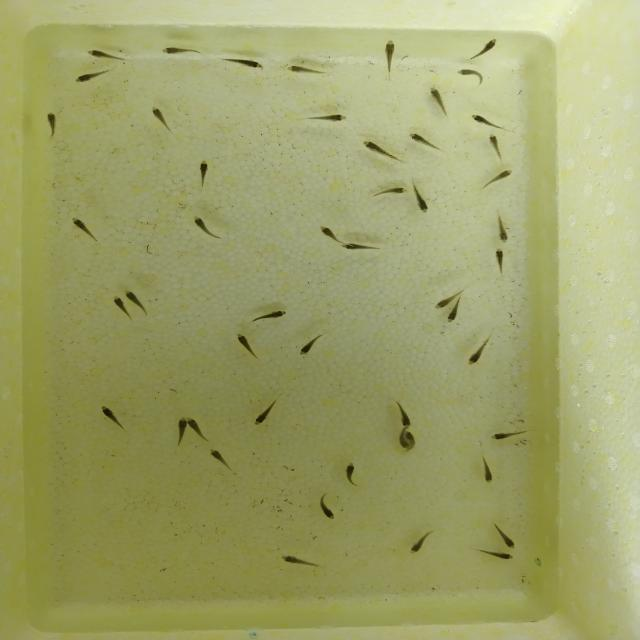fingerling: (192, 154, 217, 186), (462, 342, 488, 370), (476, 462, 503, 486), (188, 214, 218, 235), (40, 109, 65, 134), (407, 132, 438, 152), (360, 139, 392, 158), (474, 36, 501, 58), (488, 426, 522, 443), (398, 540, 434, 556), (410, 186, 432, 212), (315, 222, 343, 242), (381, 38, 399, 69), (316, 501, 339, 525), (68, 213, 90, 238), (313, 110, 349, 125), (146, 102, 170, 124), (233, 54, 265, 70), (107, 293, 131, 314), (96, 403, 120, 424), (336, 462, 364, 480), (275, 553, 311, 567), (431, 84, 446, 116), (205, 442, 229, 462), (280, 64, 319, 76), (158, 46, 200, 57), (124, 287, 144, 310), (497, 533, 522, 551), (488, 548, 516, 564), (494, 218, 510, 245), (428, 294, 452, 312), (252, 408, 273, 428), (466, 110, 492, 126), (258, 308, 290, 321), (328, 243, 383, 250), (70, 72, 102, 84), (82, 50, 124, 59), (490, 169, 513, 185), (175, 415, 188, 443), (295, 338, 313, 358), (235, 330, 252, 351), (396, 402, 412, 424), (395, 424, 407, 452), (488, 131, 502, 154), (187, 414, 202, 434), (377, 186, 409, 195), (456, 68, 483, 78), (494, 247, 506, 269), (449, 302, 457, 325), (408, 430, 415, 450)
